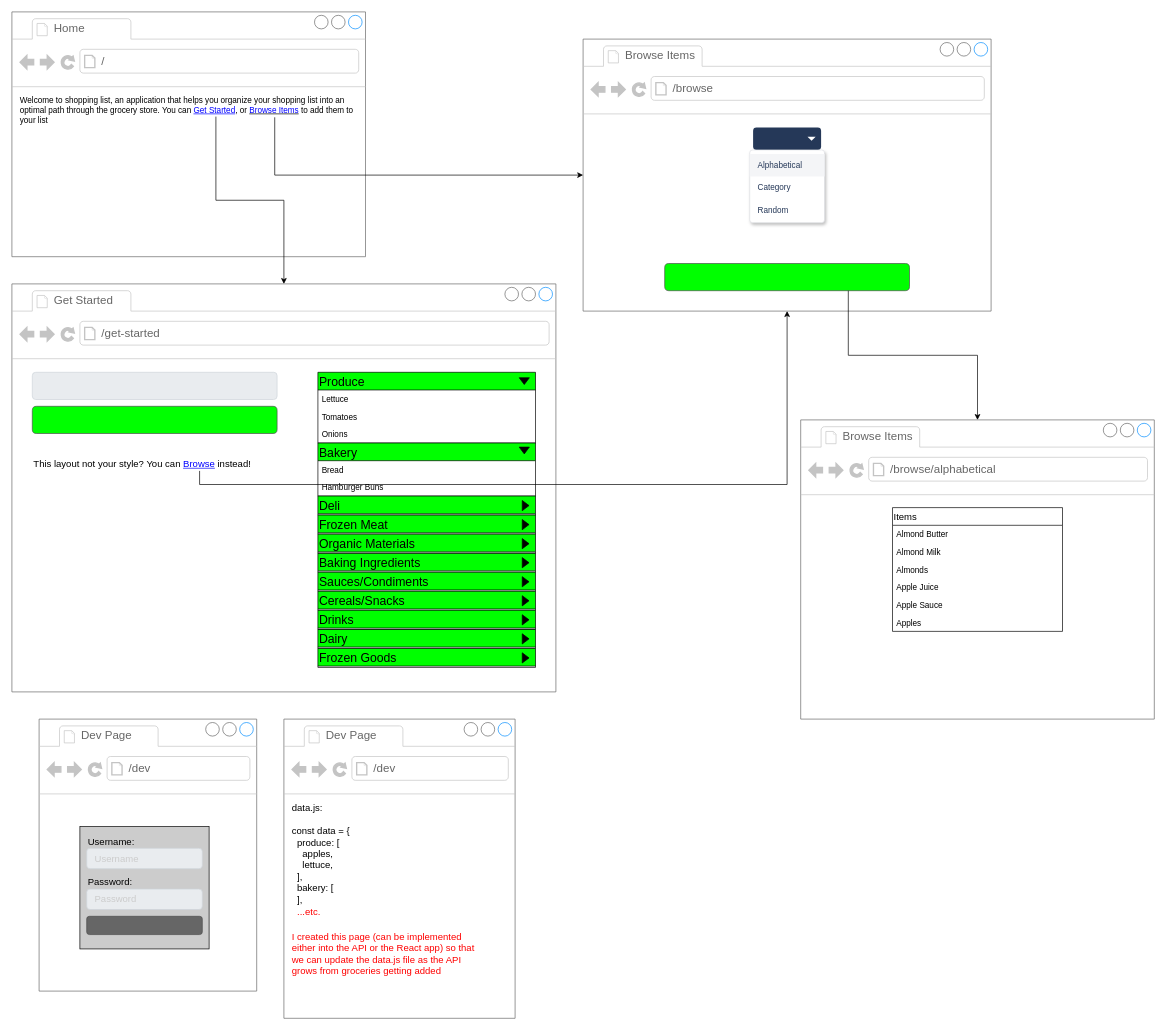
This 1166x1030 diagram has some shape labels left out. The shapes that lost their labels are listed below. From the top down, each one's centre as x and y in pixels, then its label:
At (x=787, y=138): "Browse by:".
At (x=787, y=277): "Browse!".
At (x=154, y=386): "Enter Grocery Name".
At (x=154, y=420): "Search".
At (x=144, y=925): "Authenticate".
